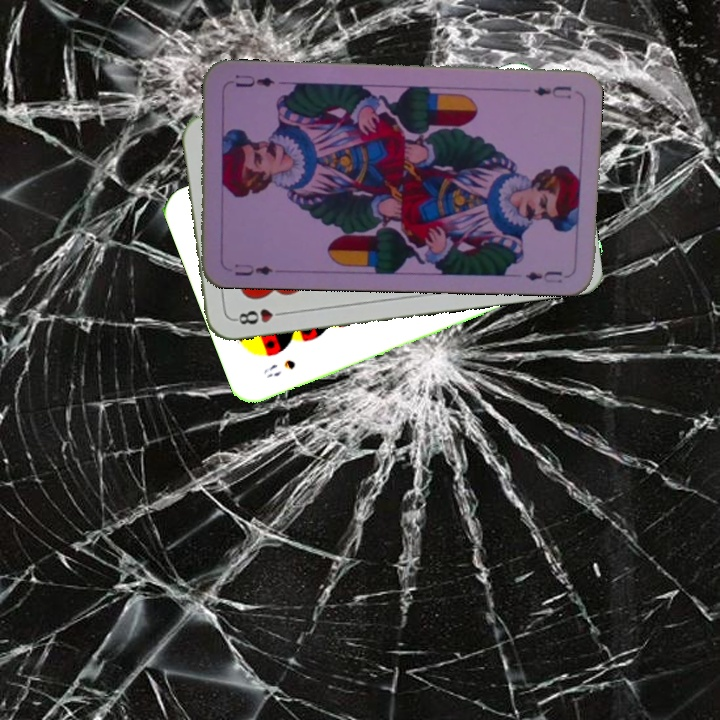EU: (231, 259, 276, 279), (529, 82, 574, 101)
H8: (230, 304, 289, 327)
S8: (259, 355, 299, 380)
